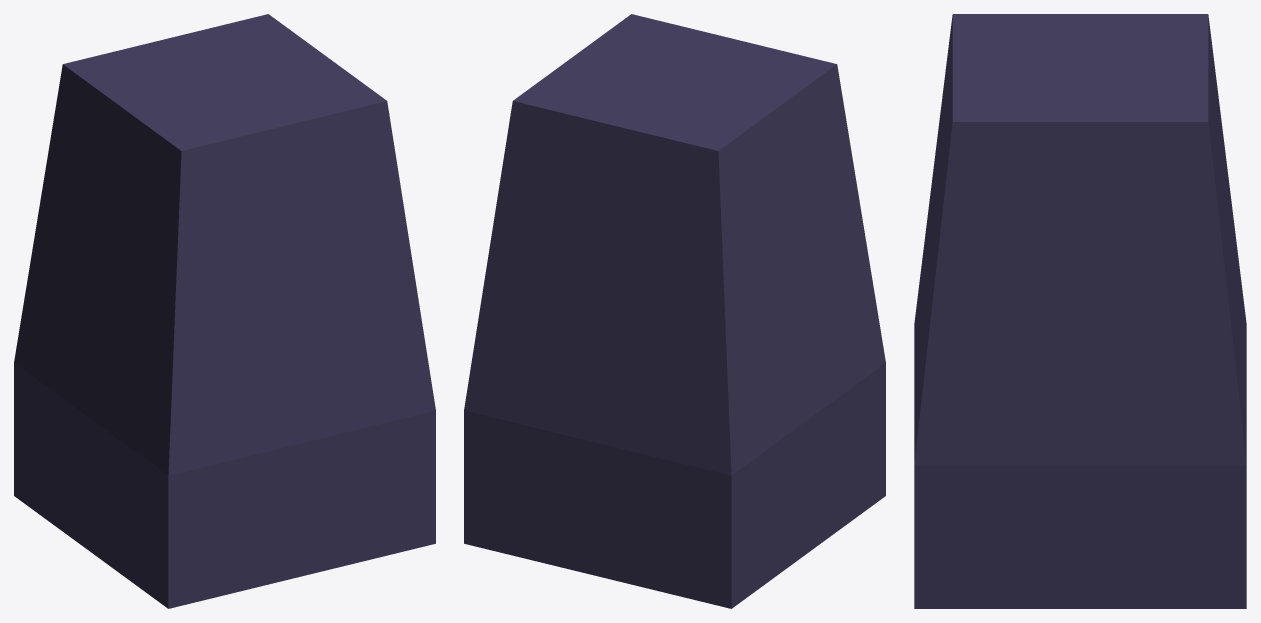
File: StoneWall.fbx
3 renders of one model, left to right at view 1: azimuth 30°, elevation 25°; view 2: azimuth 150°, elevation 25°; view 3: azimuth 270°, elevation 25°, orthographic. The views are drawn at different scales.
Parts seen in each view (by area): view 1: Tower; view 2: Tower; view 3: Tower.
Boxes of the visible parts, bbox=[...] form: Tower: bbox=[14, 14, 435, 608]; Tower: bbox=[464, 14, 885, 608]; Tower: bbox=[914, 14, 1246, 608].
Bounding box in the file's own units: 280 × 437 × 280.
